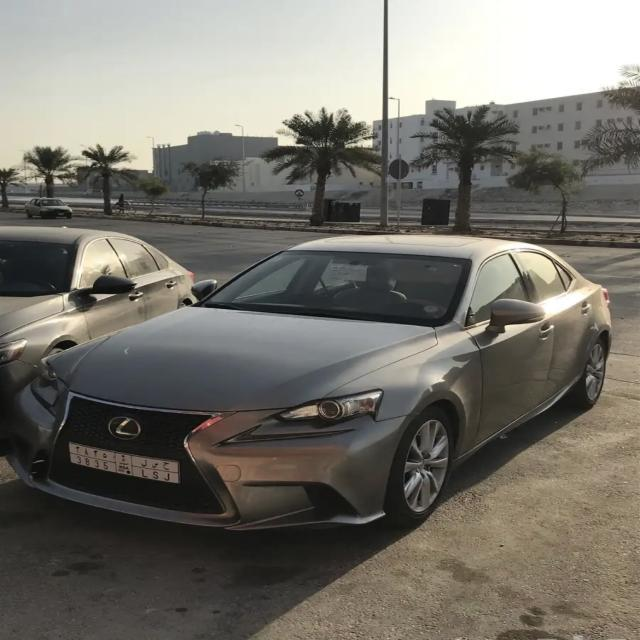license_plate: (67, 441, 182, 484)
